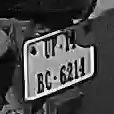1: (73, 59, 79, 79), (65, 33, 69, 53)
2: (66, 62, 74, 83)
4: (70, 31, 78, 52), (78, 57, 86, 78)
6: (58, 64, 67, 86)
B: (36, 71, 45, 94)
C: (44, 71, 52, 92)
P: (51, 36, 59, 59)
U: (43, 39, 51, 59)
